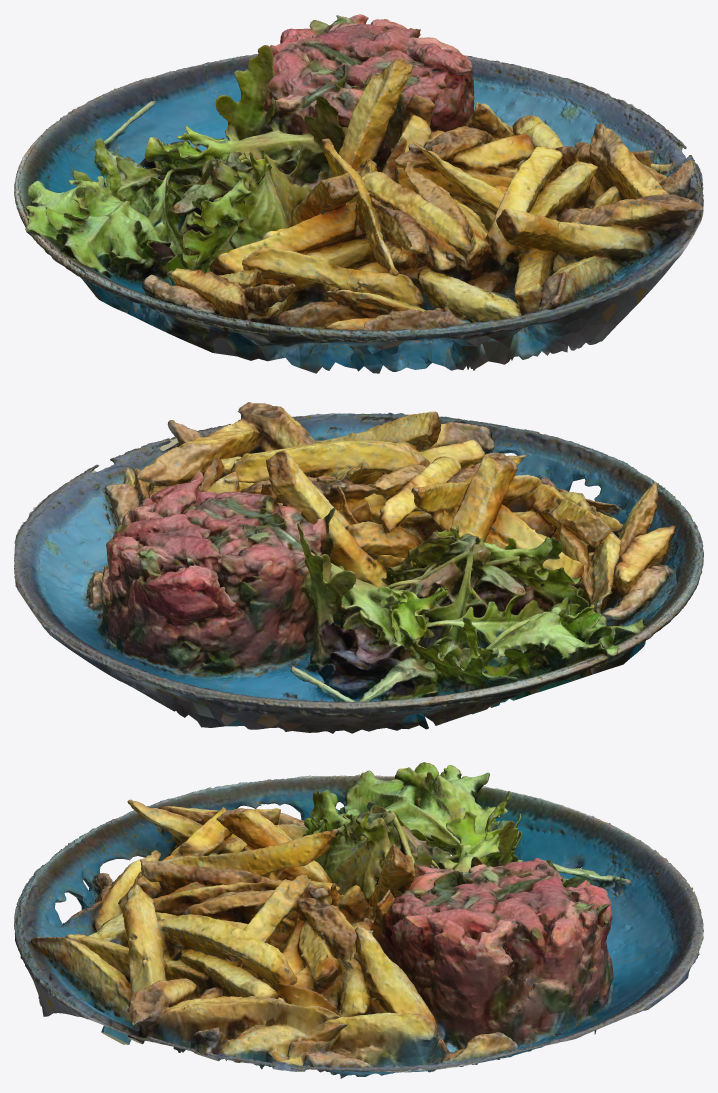
Rendered from steak-tartare-android.glb.
3 renders of one model, top to bottom at view 1: azimuth 30°, elevation 25°; view 2: azimuth 150°, elevation 25°; view 3: azimuth 270°, elevation 25°, orthographic.
Parts seen in each view (by area): view 1: Object_2, Object_6, Object_4, Object_7, Object_3, Object_5, Object_8; view 2: Object_7, Object_4, Object_6, Object_5, Object_2, Object_3, Object_8; view 3: Object_2, Object_3, Object_6, Object_7, Object_4, Object_5, Object_8.
Part boxes in pixels (x1,y1,x2,y2): Object_2: (77, 55, 703, 370); Object_6: (27, 14, 627, 356); Object_4: (14, 82, 683, 352); Object_7: (17, 14, 703, 352); Object_3: (202, 50, 668, 279); Object_5: (14, 101, 375, 345); Object_8: (217, 194, 691, 373); Object_7: (14, 405, 591, 733); Object_4: (149, 412, 703, 707); Object_6: (106, 444, 633, 636); Object_5: (277, 455, 681, 732); Object_2: (14, 402, 703, 623); Object_3: (14, 418, 482, 669); Object_8: (248, 404, 700, 547); Object_2: (14, 784, 639, 1071); Object_3: (158, 810, 655, 1076); Object_6: (148, 762, 607, 1050); Object_7: (38, 806, 703, 1078); Object_4: (146, 775, 694, 1045); Object_5: (161, 762, 630, 888); Object_8: (37, 804, 160, 1031).
Bounding box in the file's own units: 0.1785 × 0.0462 × 0.1795.
Materials: 1 (1 with a texture image).
